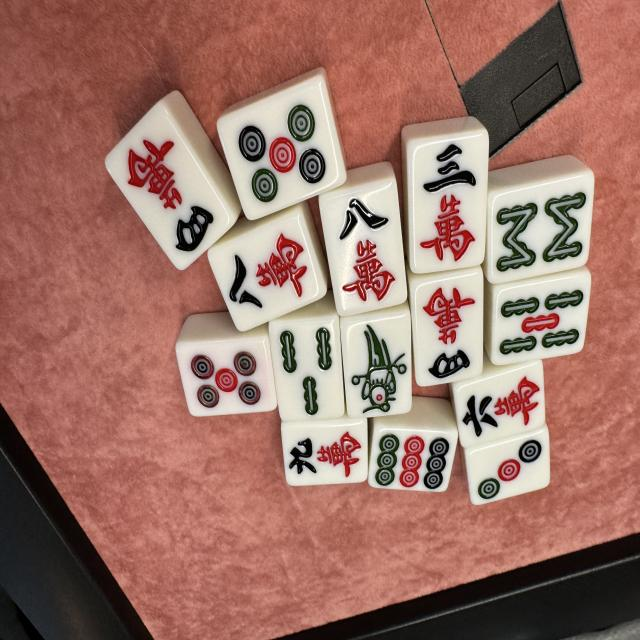sb1: (345, 313, 412, 420)
sb5: (492, 272, 591, 366)
sb8: (490, 172, 595, 284)
sc3: (405, 130, 489, 273)
sc4: (104, 101, 235, 270), (413, 271, 484, 386)
sc6: (454, 359, 546, 448)
sc8: (206, 205, 328, 333), (319, 175, 408, 316)
sc9: (280, 419, 369, 487)
sd3: (465, 427, 550, 505)
sd5: (216, 74, 346, 221), (175, 335, 278, 417)
sd9: (368, 425, 458, 492)
